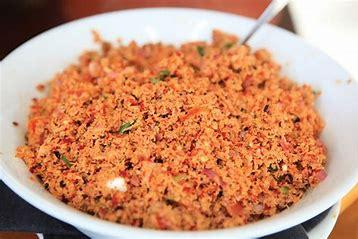Pol Sambol: (20, 24, 329, 206)
